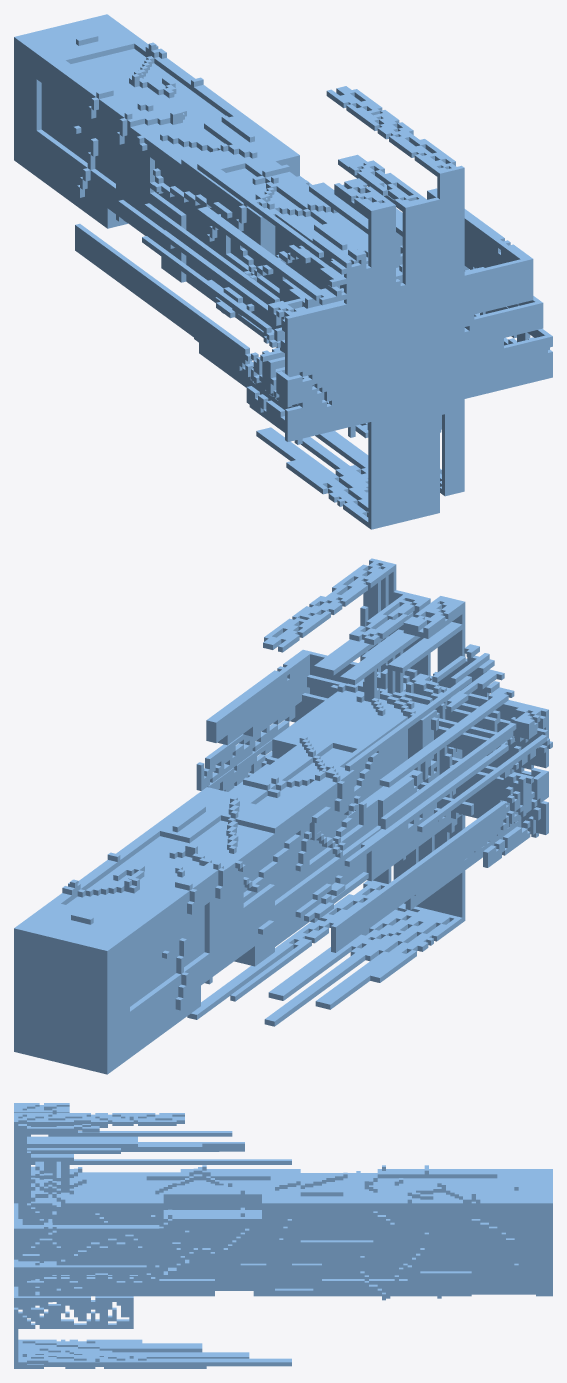
File: Forest-Tree1.obj
The picture shows the model from 3 angles, top to bottom: view 1: azimuth 30°, elevation 25°; view 2: azimuth 150°, elevation 25°; view 3: azimuth 270°, elevation 25°; orthographic projection. The views are drawn at different scales.
Visible parts, largest first — view 1: Forest-Tree1; view 2: Forest-Tree1; view 3: Forest-Tree1.
Part boxes in pixels (<box>): Forest-Tree1: <box>14,14,552,529</box>; Forest-Tree1: <box>14,558,552,1074</box>; Forest-Tree1: <box>14,1103,552,1368</box>.
Bounding box in the file's own units: 56 × 66 × 126.
